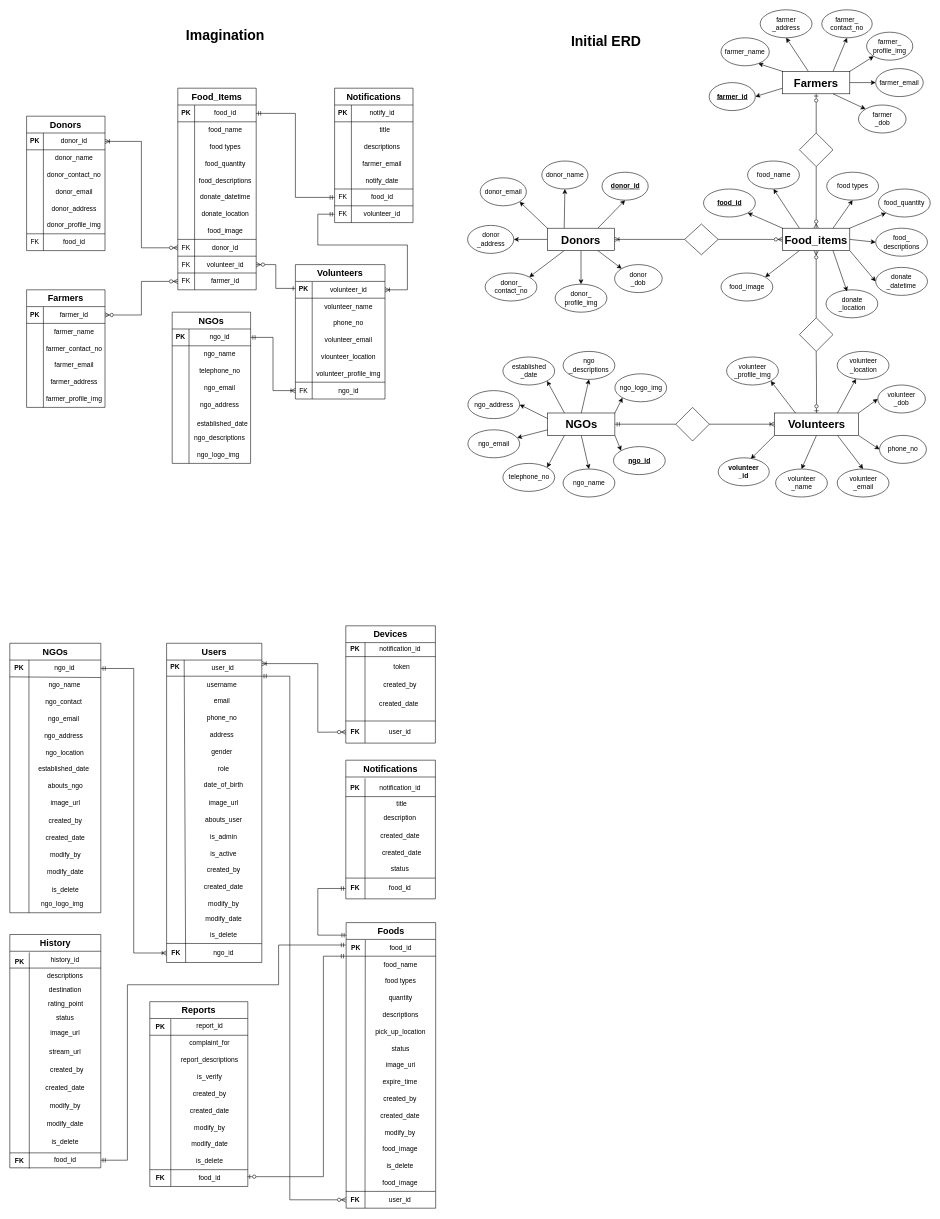
Some shapes in this 940 by 1219 pixel diagram are drawn without their labels. Here are the shapes that lost their labels. From the top down, the centre of each, then its label:
At pixel 816 149: "receive".
At pixel 701 239: "donate".
At pixel 816 334: "deliver".
At pixel 692 424: "have".
